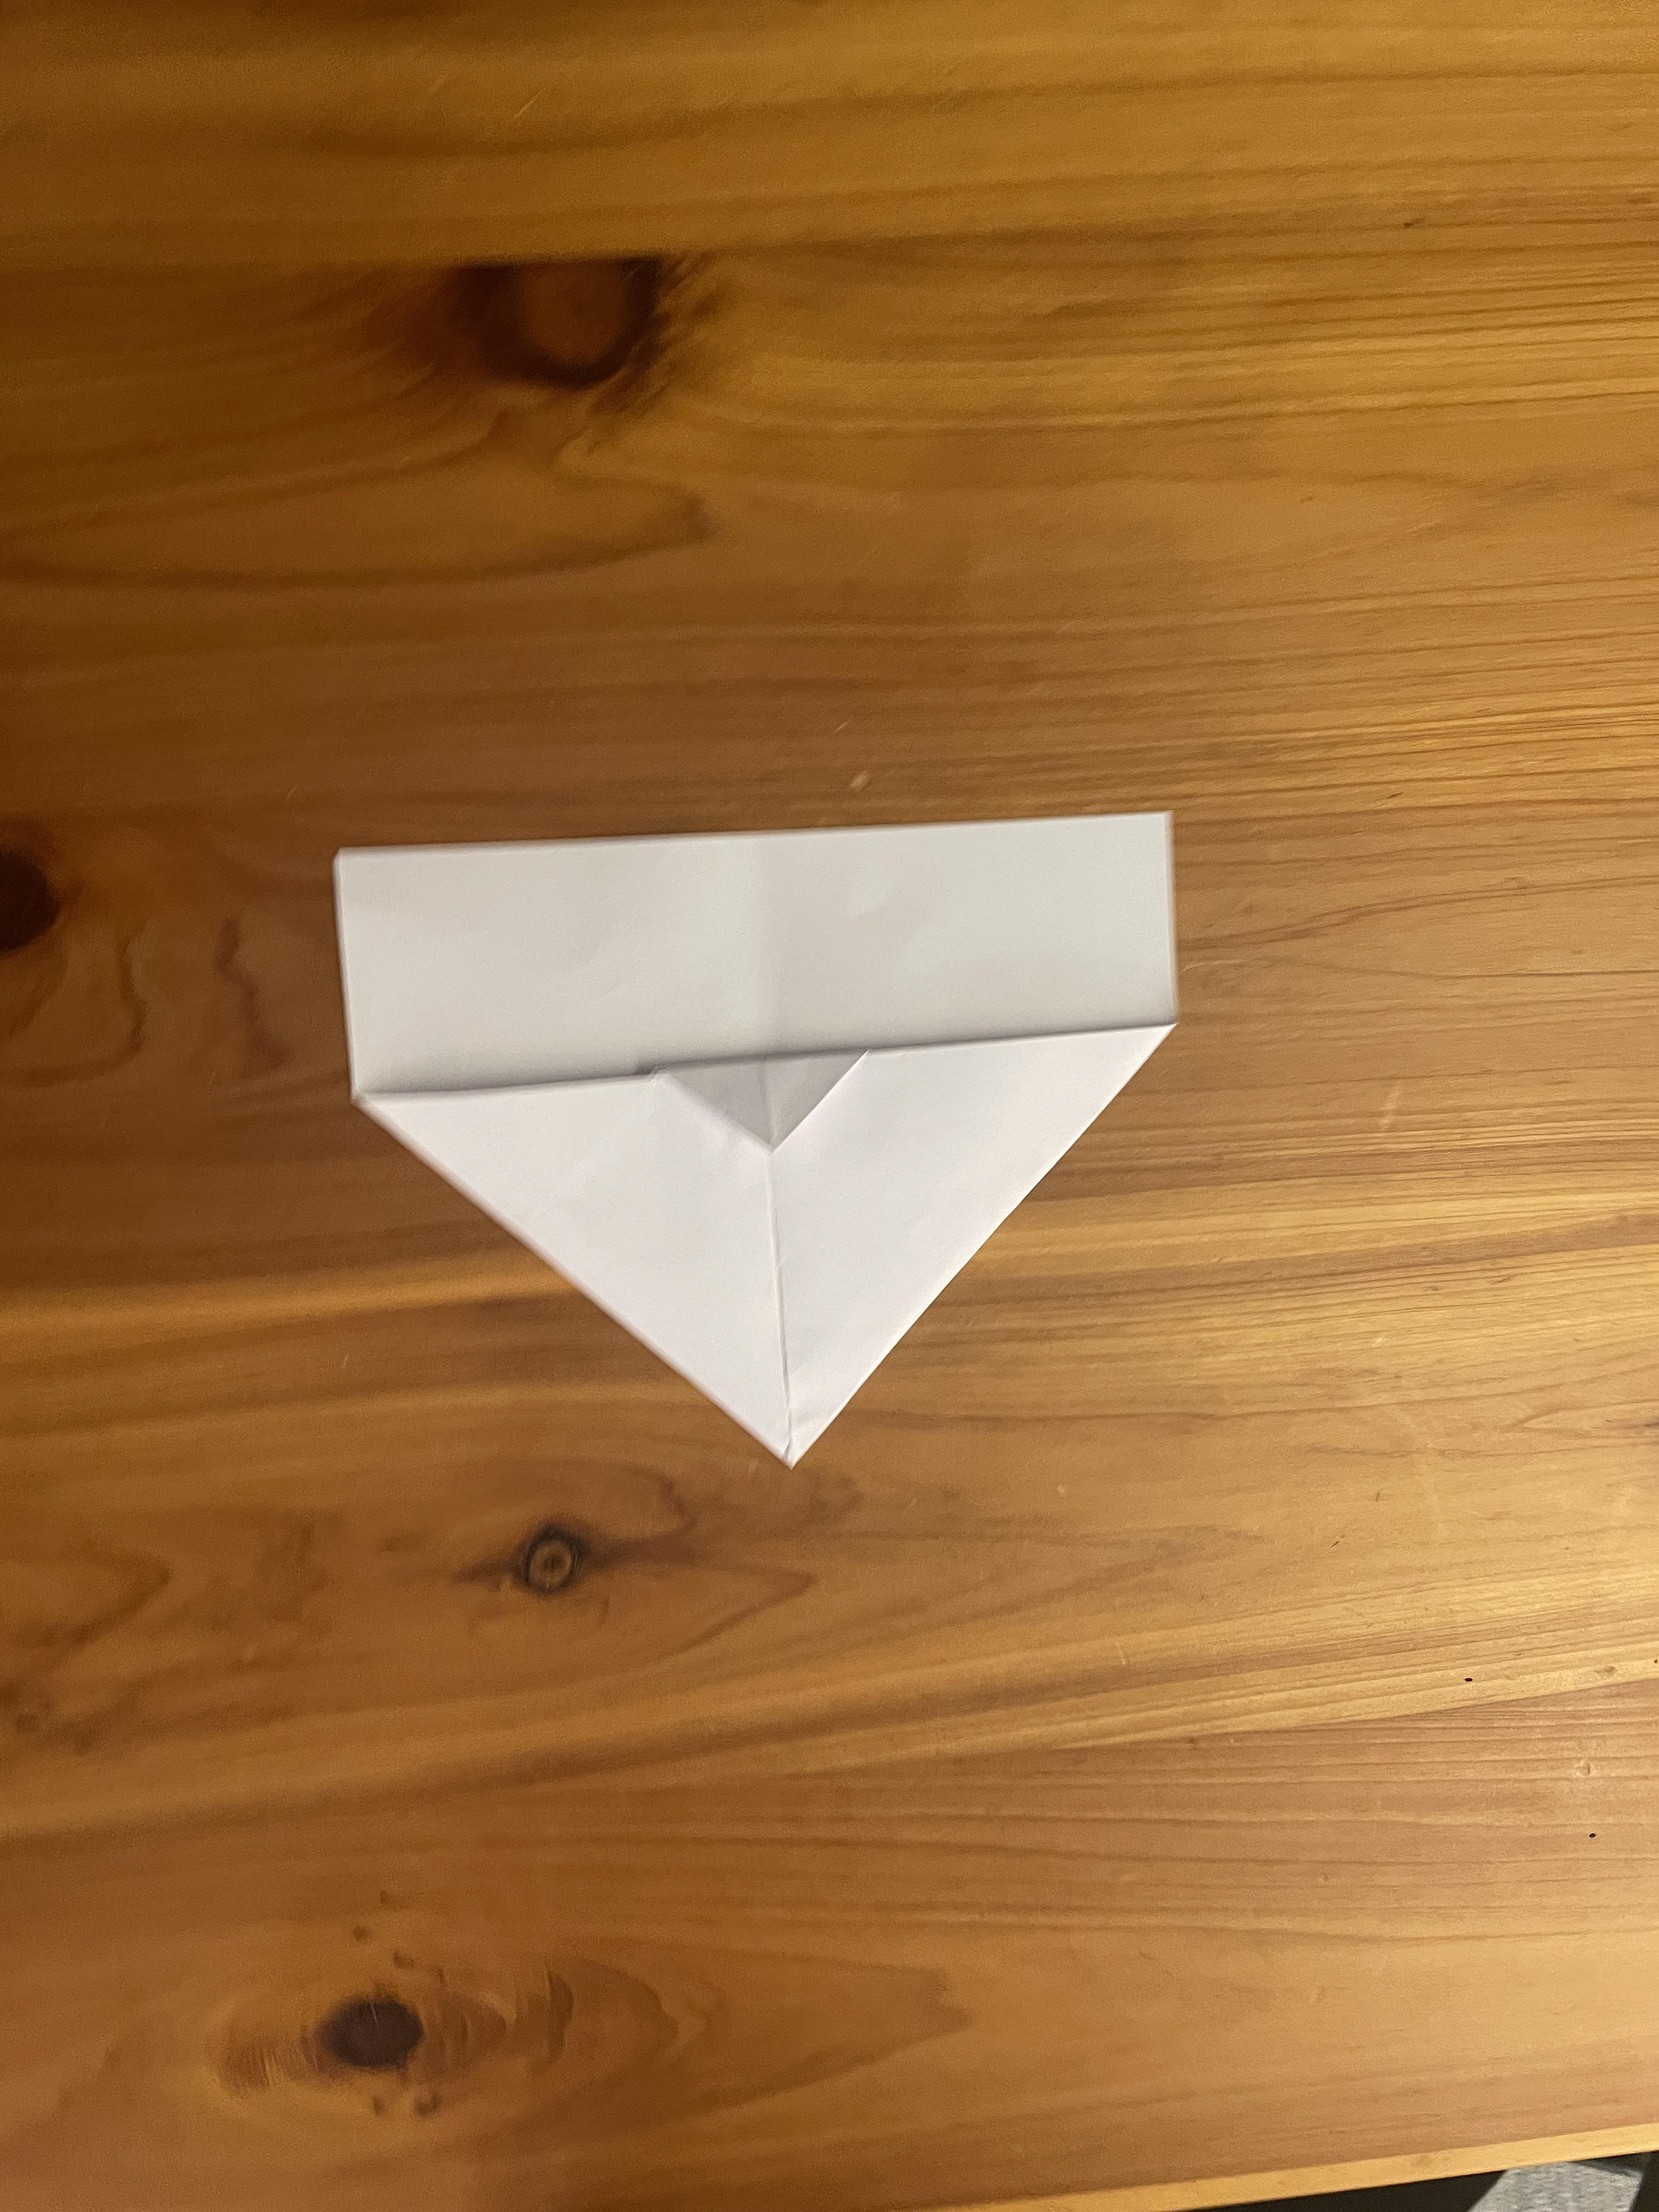shape_2: (235, 594, 1492, 1700)
